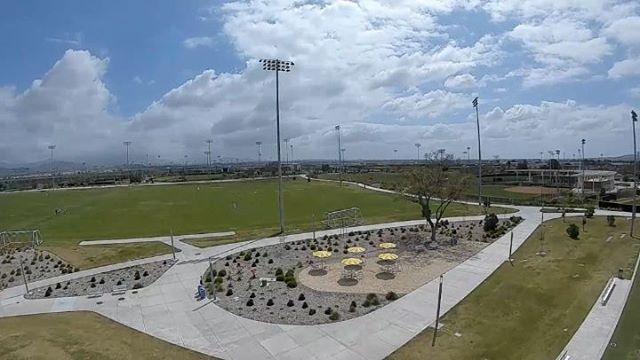grass: (3, 182, 415, 248)
sky: (1, 1, 629, 148)
tree: (382, 143, 469, 253)
